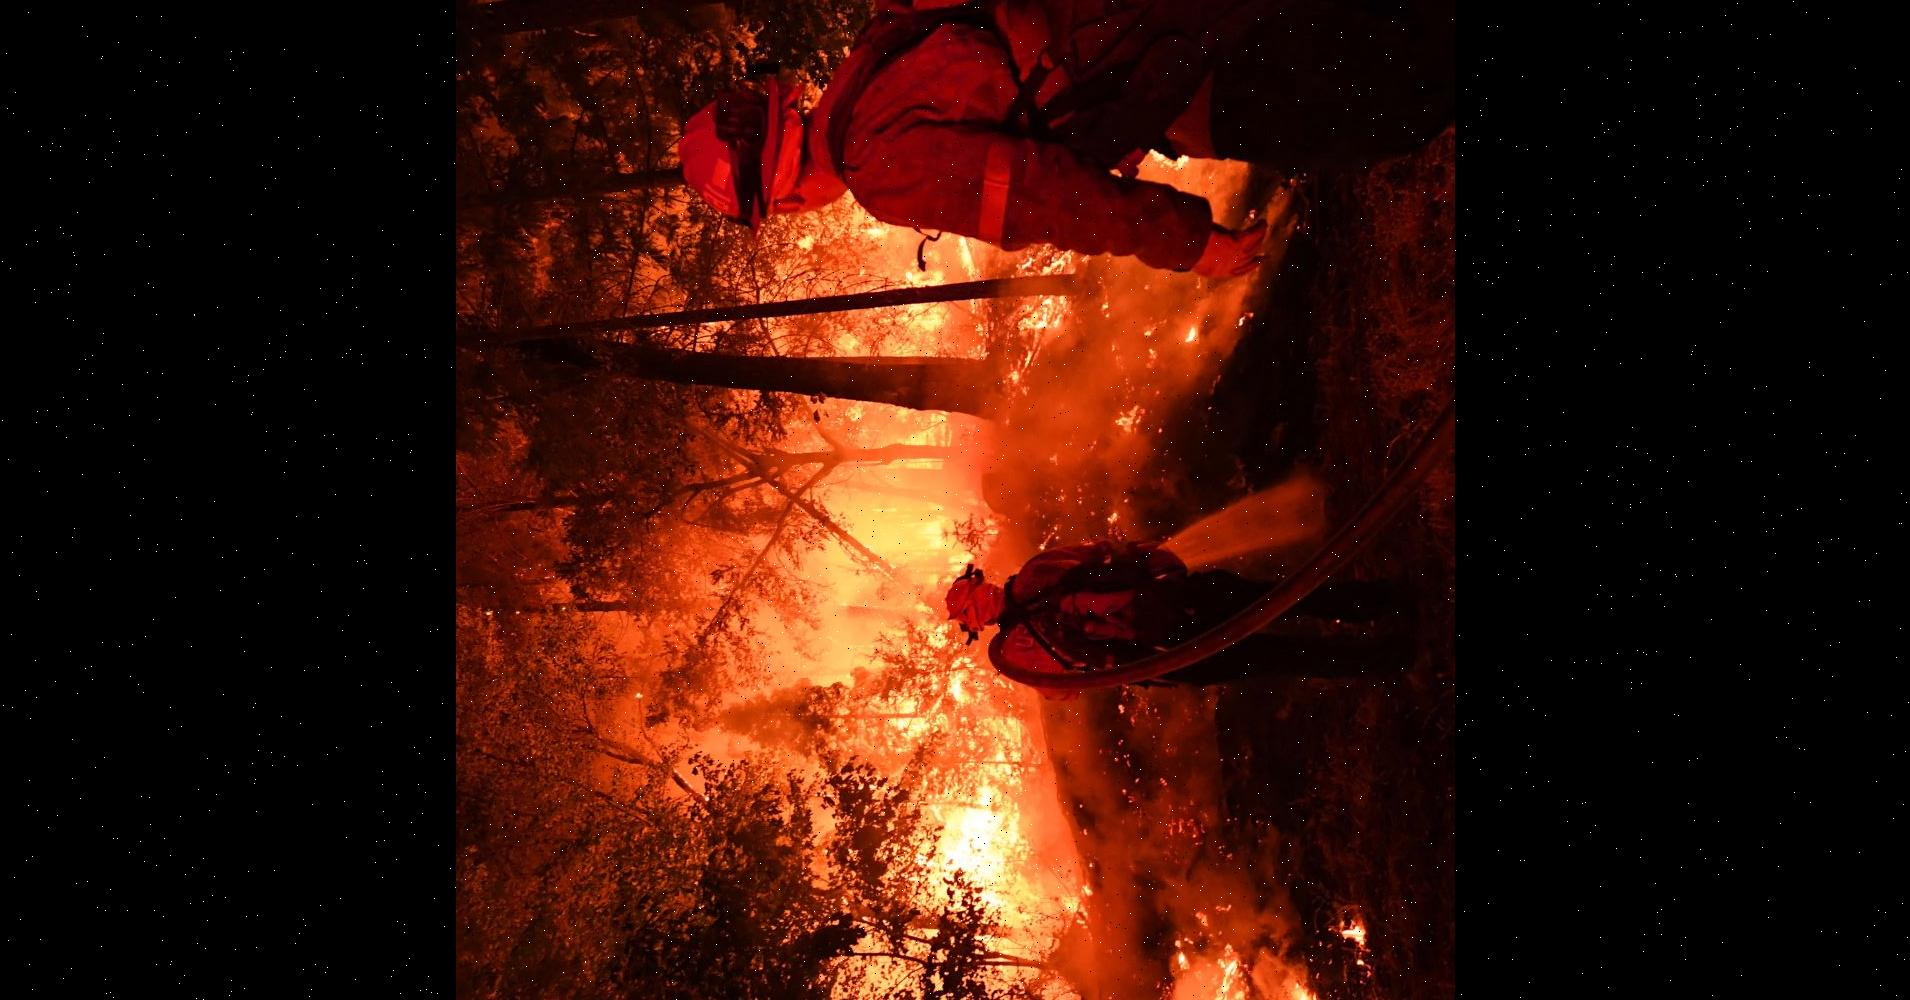fire: (718, 213, 1300, 713), (736, 737, 1448, 1000)
